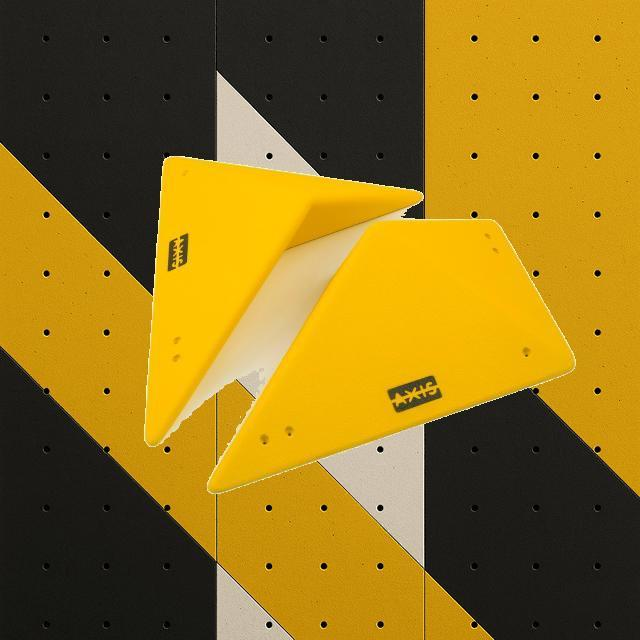Volume: (206, 218, 574, 494), (144, 156, 423, 448)
